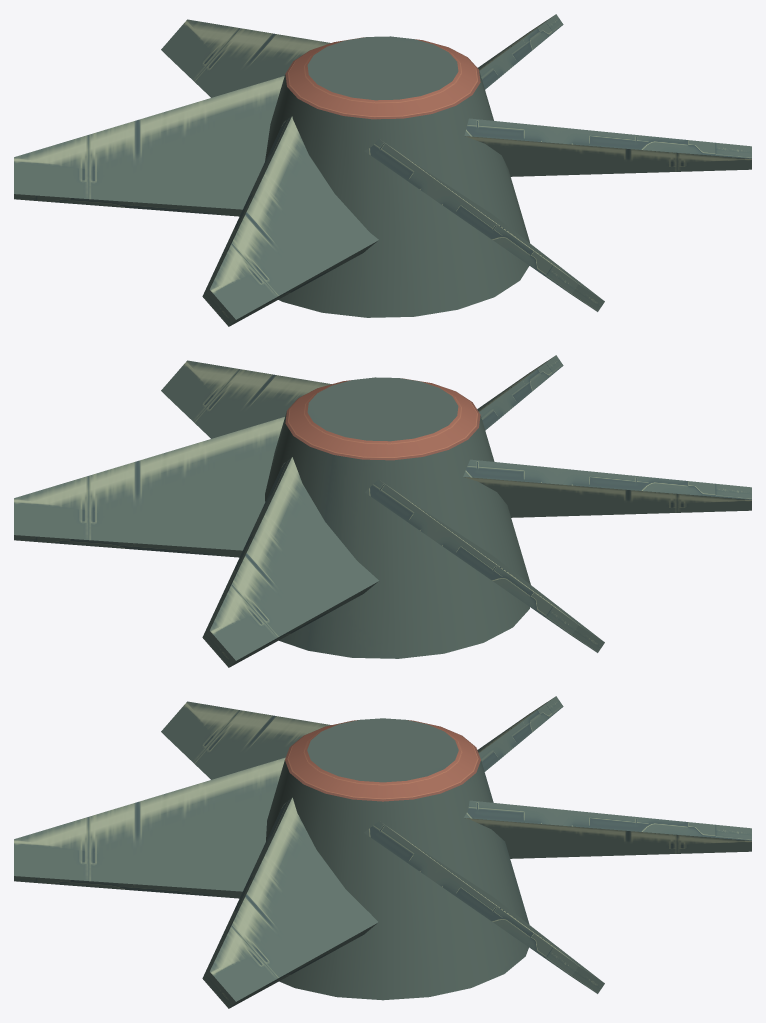
Rendered from Flange.gltf.
3 renders of one model, top to bottom at view 1: azimuth 30°, elevation 25°; view 2: azimuth 150°, elevation 25°; view 3: azimuth 270°, elevation 25°, orthographic.
Parts seen in each view (by area): view 1: Prop_Fan_Small_Propeller; view 2: Prop_Fan_Small_Propeller; view 3: Prop_Fan_Small_Propeller.
Part boxes in pixels (box(x1,y1,x2,y2)): Prop_Fan_Small_Propeller: box(14, 14, 751, 326); Prop_Fan_Small_Propeller: box(14, 355, 751, 667); Prop_Fan_Small_Propeller: box(14, 696, 751, 1008).
Size of the model in its own units: 1.06 by 0.3203 by 1.15.
Materials: 2 (2 with a texture image).
